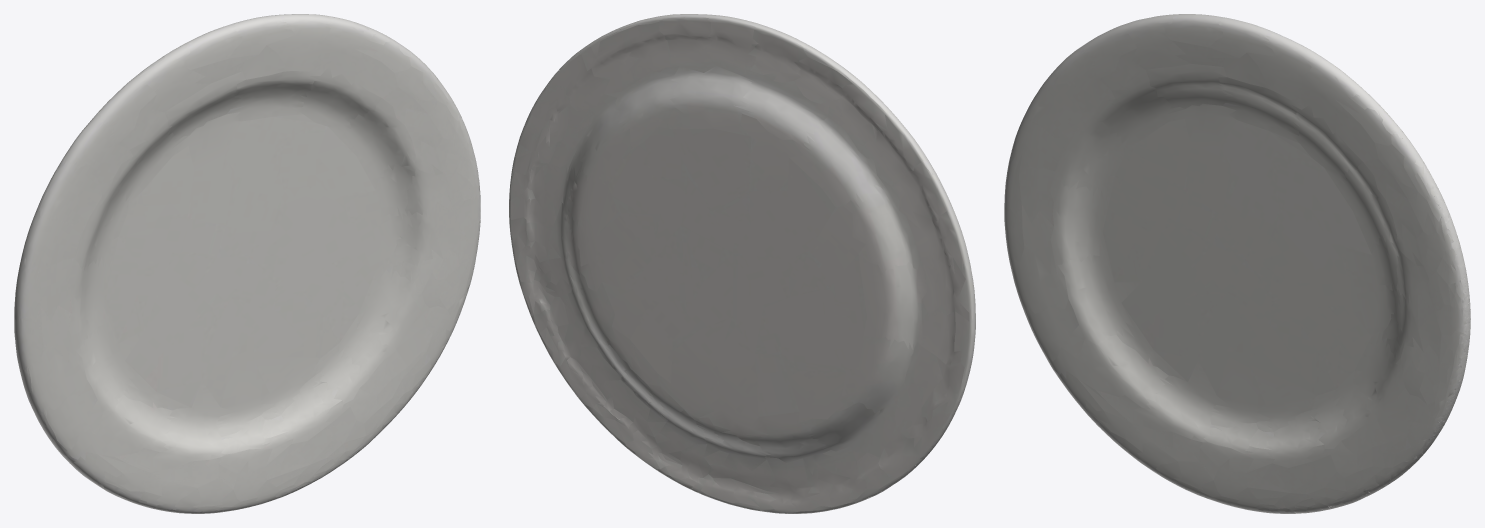
File: sister-1.glb
3 renders of one model, left to right at view 1: azimuth 30°, elevation 25°; view 2: azimuth 150°, elevation 25°; view 3: azimuth 330°, elevation 25°, orthographic.
Visible parts, largest first — view 1: white dinner plate; view 2: white dinner plate; view 3: white dinner plate.
Boxes of the visible parts, x1=… form: white dinner plate: x1=14, y1=14, x2=480, y2=513; white dinner plate: x1=509, y1=14, x2=975, y2=513; white dinner plate: x1=1004, y1=14, x2=1470, y2=513.
Bounding box in the file's own units: 0.2397 × 0.2397 × 0.0138.
Materials: 1 (1 with a texture image).
